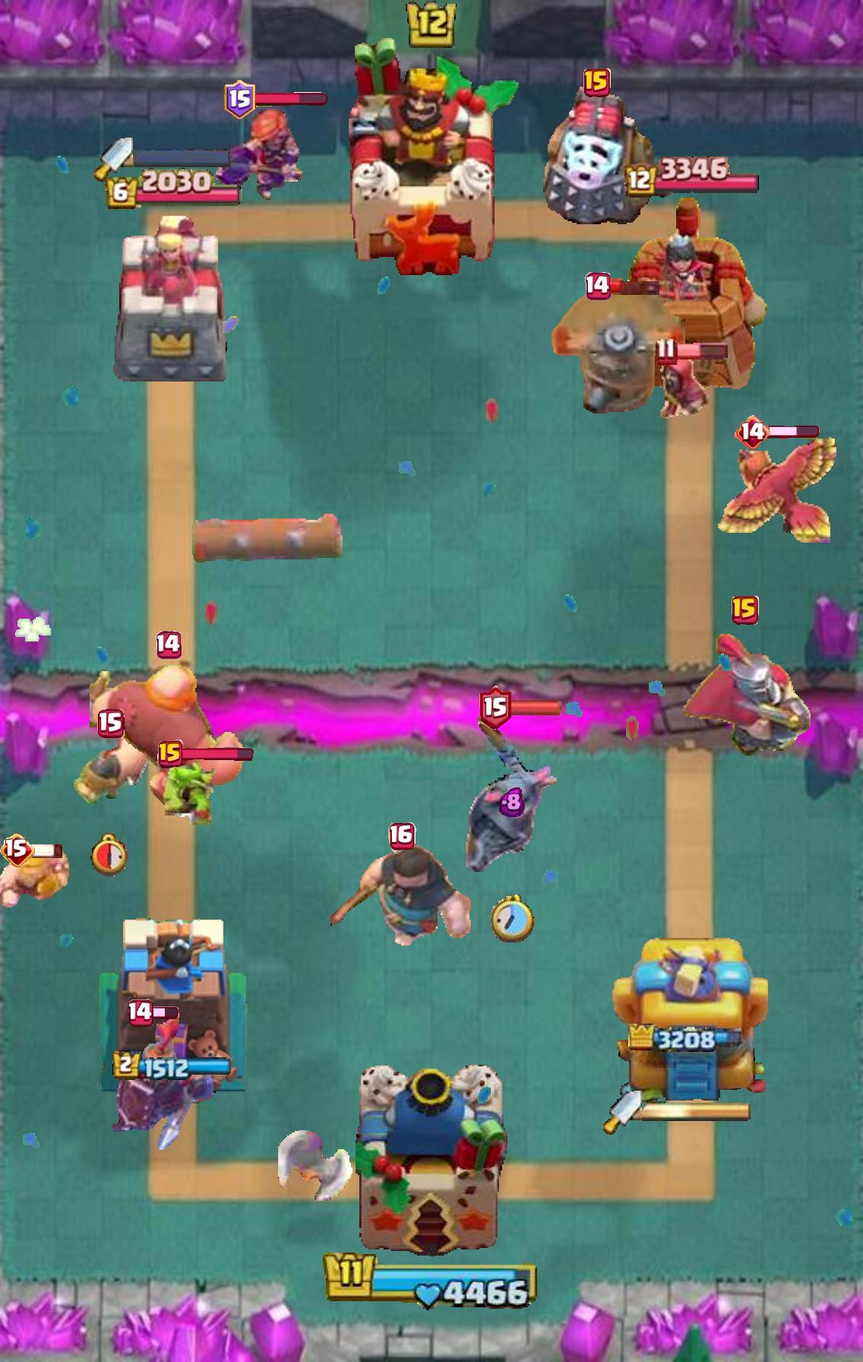elixir: (499, 787, 525, 817)
the-log: (190, 510, 345, 571)
